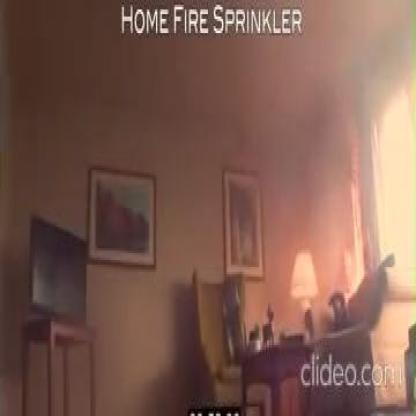fire: (335, 140, 366, 302)
